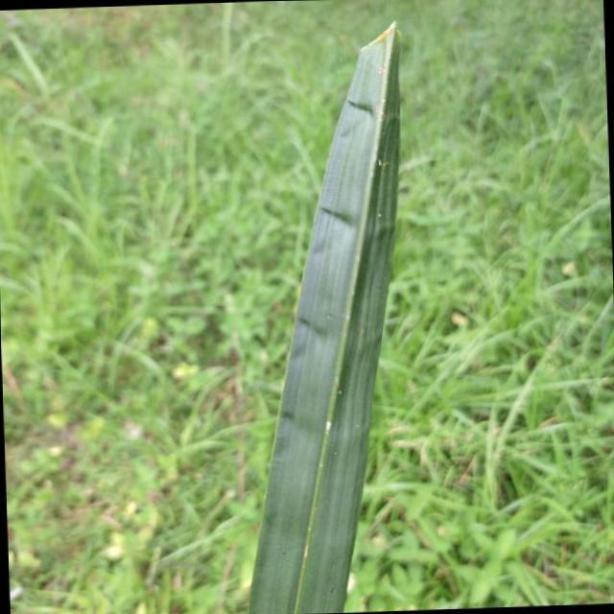Boron: (251, 14, 405, 614)
